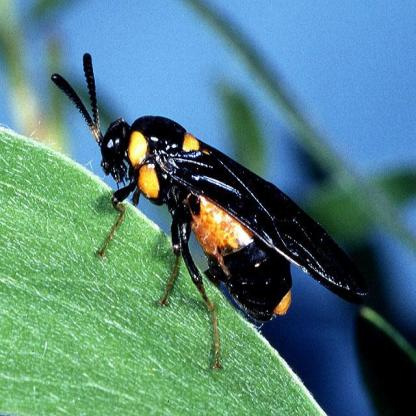sawfly: (50, 47, 372, 376)
